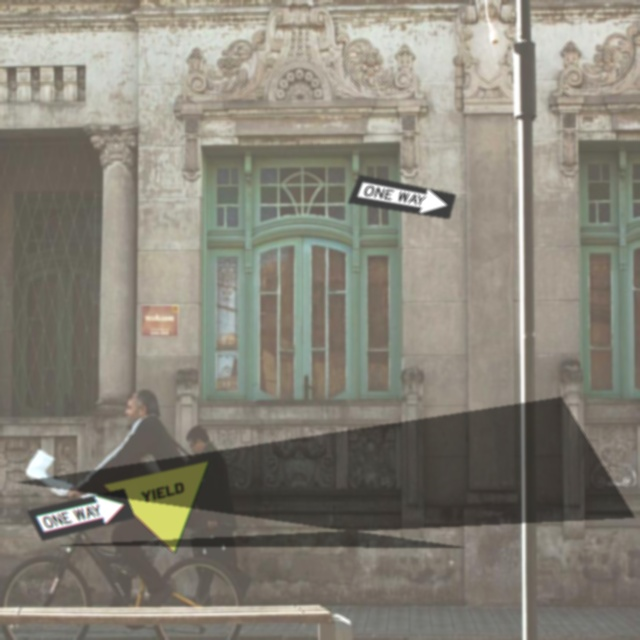ONE_WAY_ right: (26, 488, 135, 541), (347, 174, 456, 219)
YIELD: (101, 460, 210, 554)
